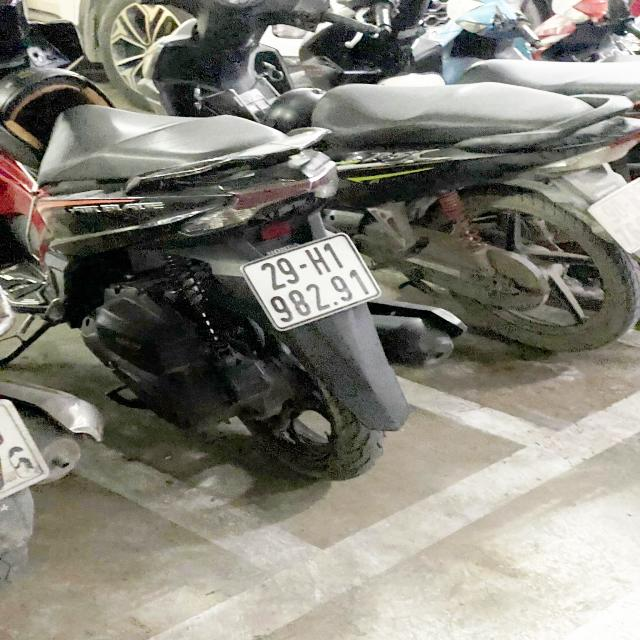license_plate: (234, 228, 390, 335)
